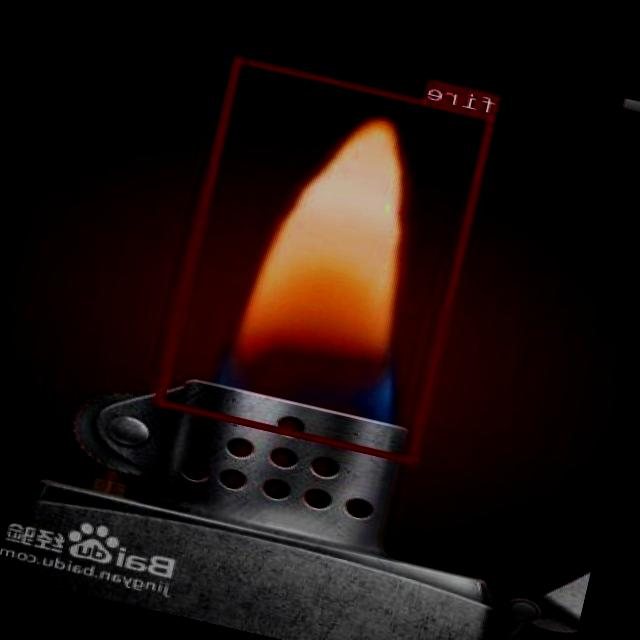fire: (156, 55, 499, 464)
